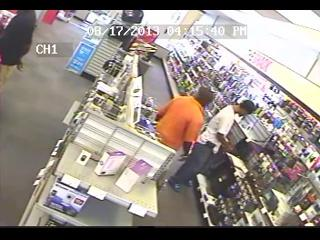Normal: (166, 99, 256, 193), (154, 86, 216, 158), (0, 11, 37, 90)
